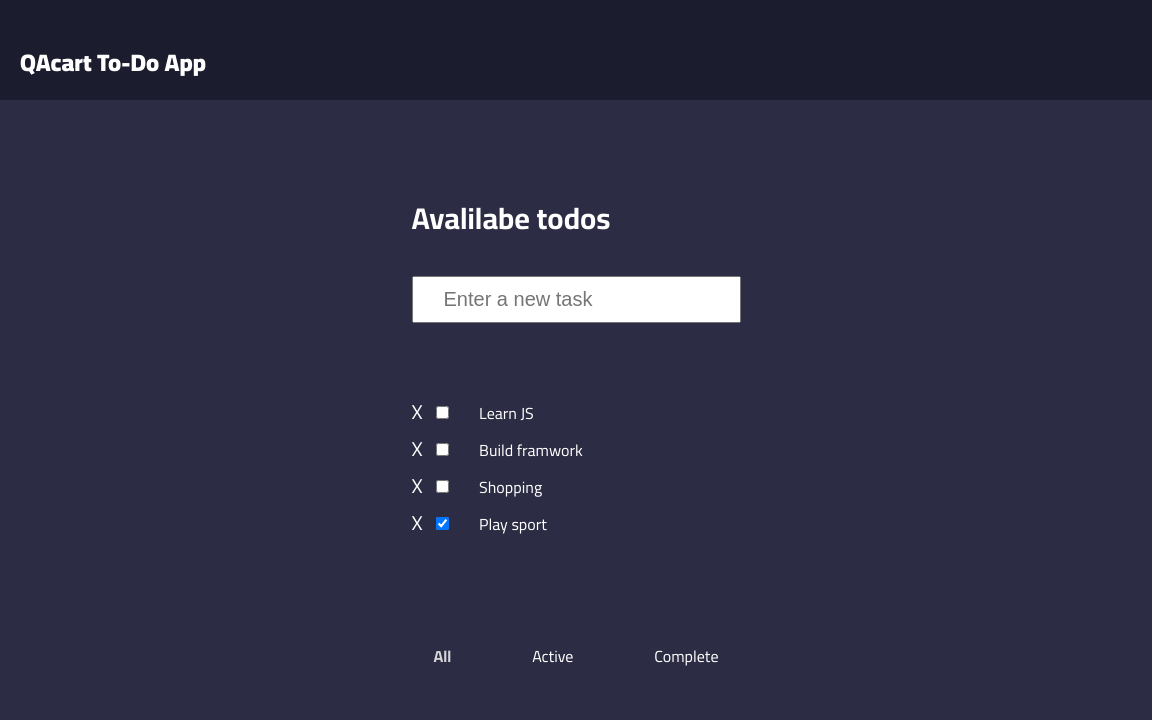
Scenario: Filter functionalities test cases. › Should filter the completed todos correctly.
The image size is (1152, 720).
What coordinates should you click on to do the following:
click the link "Complete"
I would click on:
 (686, 656)
Its box is [652,641,720,671].
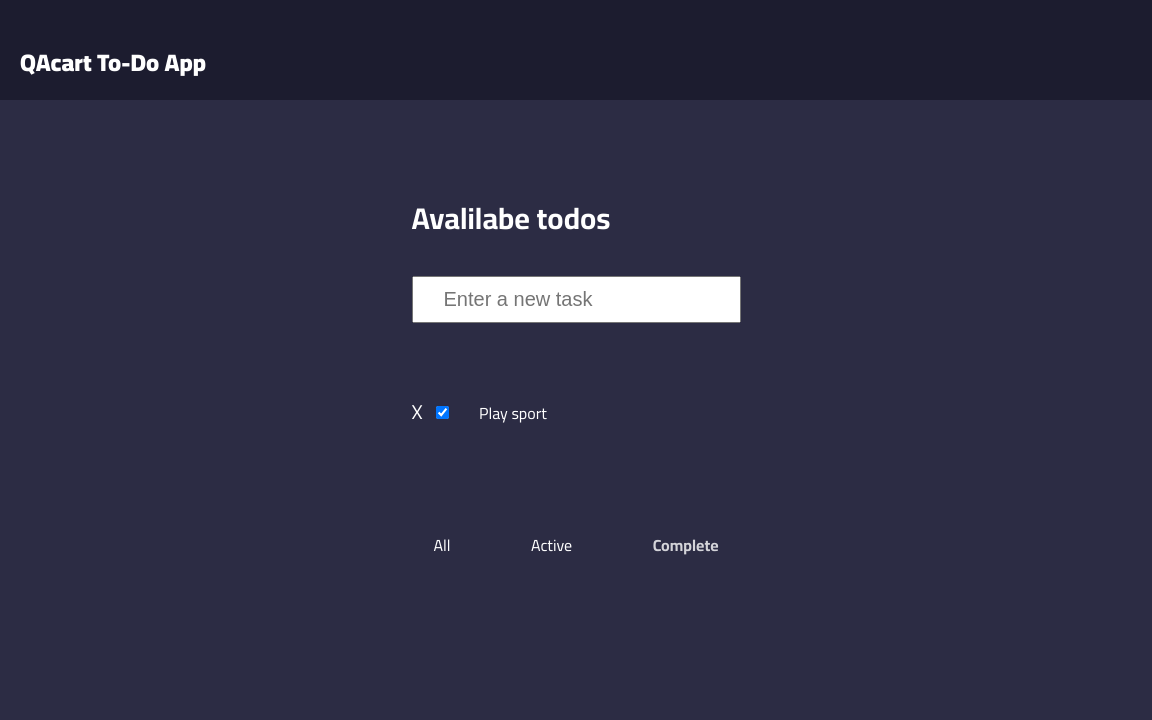
Result: the checkbox with class "todo-checkbox" is checked at [436,406,449,419]
